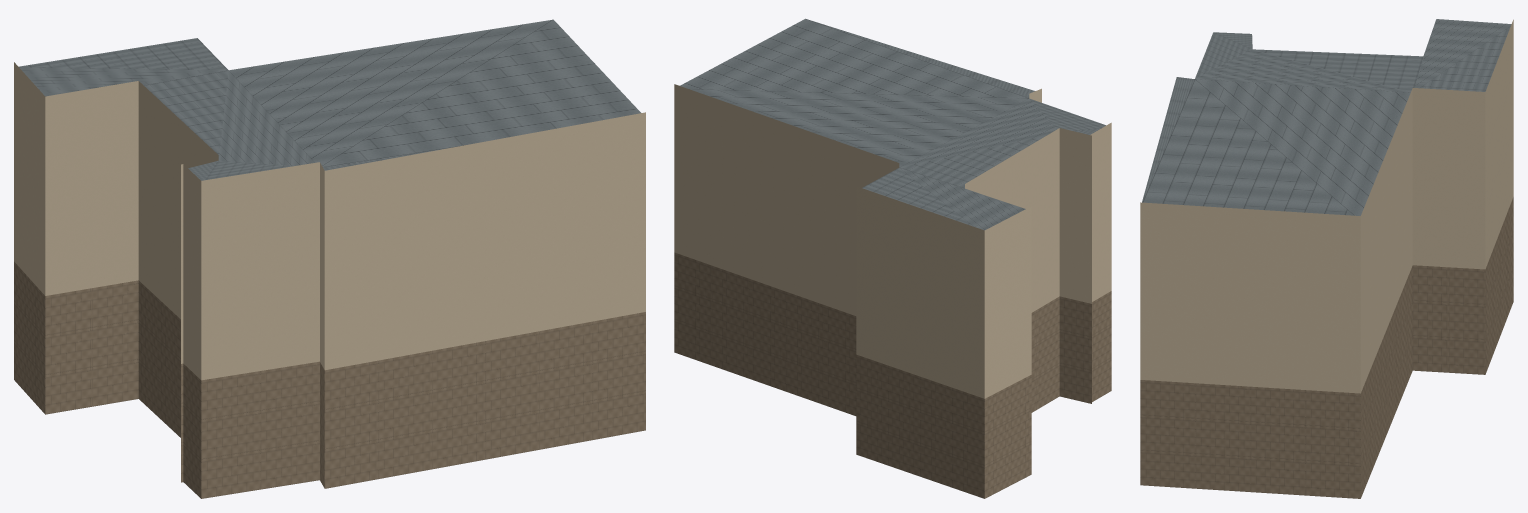
File: core_0110.gltf
The picture shows the model from 3 angles, left to right: view 1: azimuth 30°, elevation 25°; view 2: azimuth 150°, elevation 25°; view 3: azimuth 270°, elevation 25°; orthographic projection. The views are drawn at different scales.
Parts seen in each view (by area): view 1: core_0110; view 2: core_0110; view 3: core_0110.
Boxes of the visible parts, x1,y1,x2,y2 form: core_0110: (14, 19, 645, 498); core_0110: (674, 18, 1111, 498); core_0110: (1140, 19, 1513, 498).
Size of the model in its own units: 20.96 by 13.68 by 16.35.
Materials: 3 (3 with a texture image).
